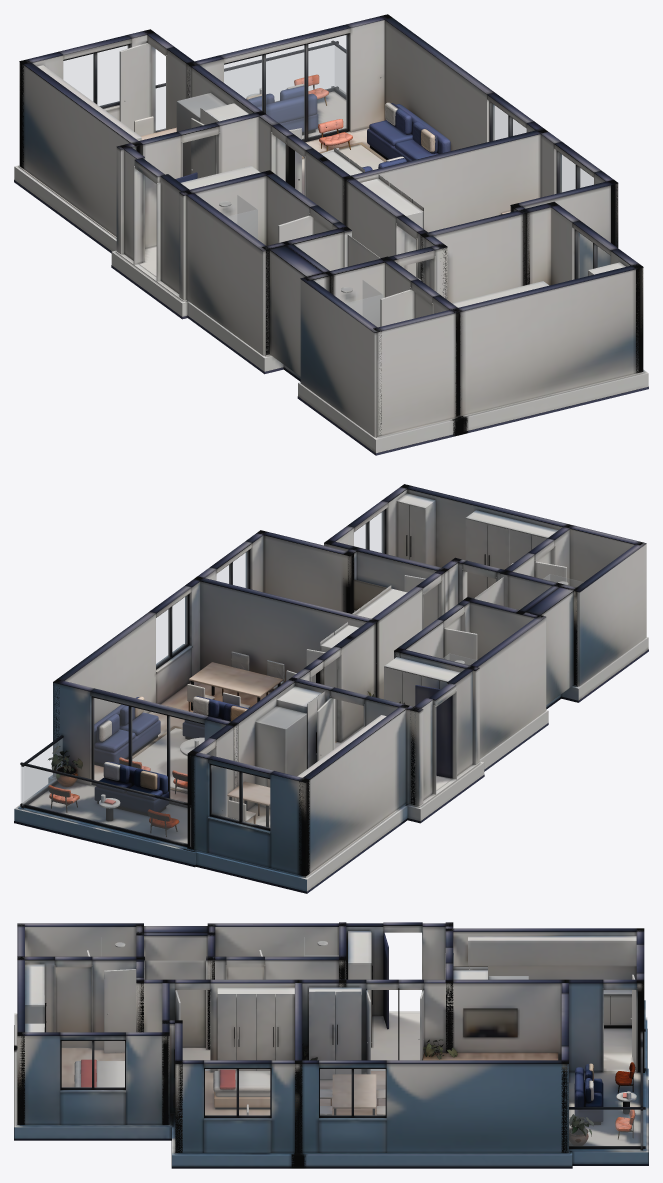
3 views of the same model, one above another, from view 1: azimuth 30°, elevation 25°; view 2: azimuth 150°, elevation 25°; view 3: azimuth 270°, elevation 25° (orthographic). The views are drawn at different scales.
Visible parts, largest first — view 1: plan, glass1_m, railg0_m, glass0_m, glass4_m, glass3_m, glass2_m, sg.002_m, sg_m; view 2: plan, railg0_m, glass1_m, glass0_m, glass2_m, railg5_m, glass4_m, glass3_m; view 3: plan, glass2_m, glass3_m, glass4_m, railg5_m.
Boxes of the visible parts, x1,y1,x2,y2 form: plan: (14, 14, 648, 455); glass1_m: (224, 35, 347, 139); railg0_m: (156, 45, 333, 130); glass0_m: (63, 45, 128, 106); glass4_m: (577, 231, 610, 278); glass3_m: (559, 153, 593, 192); glass2_m: (491, 103, 526, 140); sg.002_m: (363, 280, 382, 326); sg_m: (237, 195, 257, 238); plan: (14, 484, 648, 893); railg0_m: (21, 766, 187, 843); glass1_m: (93, 698, 204, 802); glass0_m: (211, 765, 269, 828); glass2_m: (156, 595, 187, 666); railg5_m: (22, 738, 62, 805); glass4_m: (354, 510, 384, 552); glass3_m: (217, 551, 247, 588); plan: (14, 922, 648, 1168); glass2_m: (320, 1069, 385, 1115); glass3_m: (205, 1069, 269, 1115); glass4_m: (62, 1041, 124, 1087); railg5_m: (569, 1110, 645, 1145).
Bounding box in the file's own units: 7.81 × 2.62 × 14.53.
Materials: 2 (1 with a texture image).
